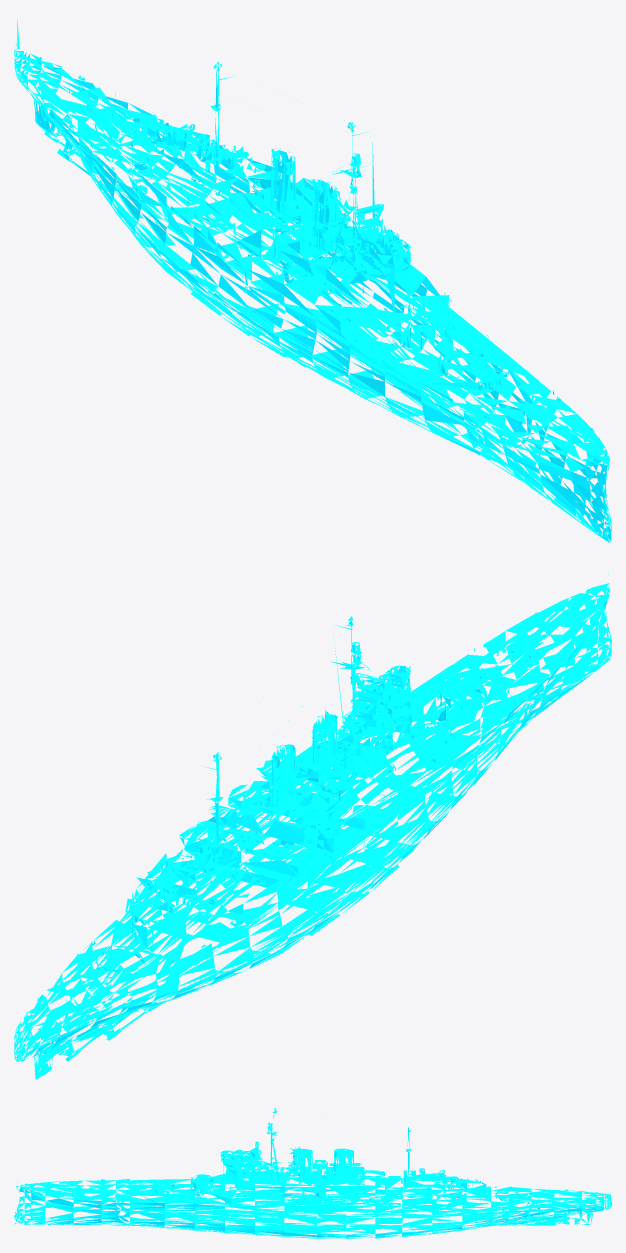
File: Renown.glb
The picture shows the model from 3 angles, top to bottom: view 1: azimuth 30°, elevation 25°; view 2: azimuth 150°, elevation 25°; view 3: azimuth 270°, elevation 25°; orthographic projection. The views are drawn at different scales.
Size of the model in its own units: 2.07 by 3.5 by 16.13.
